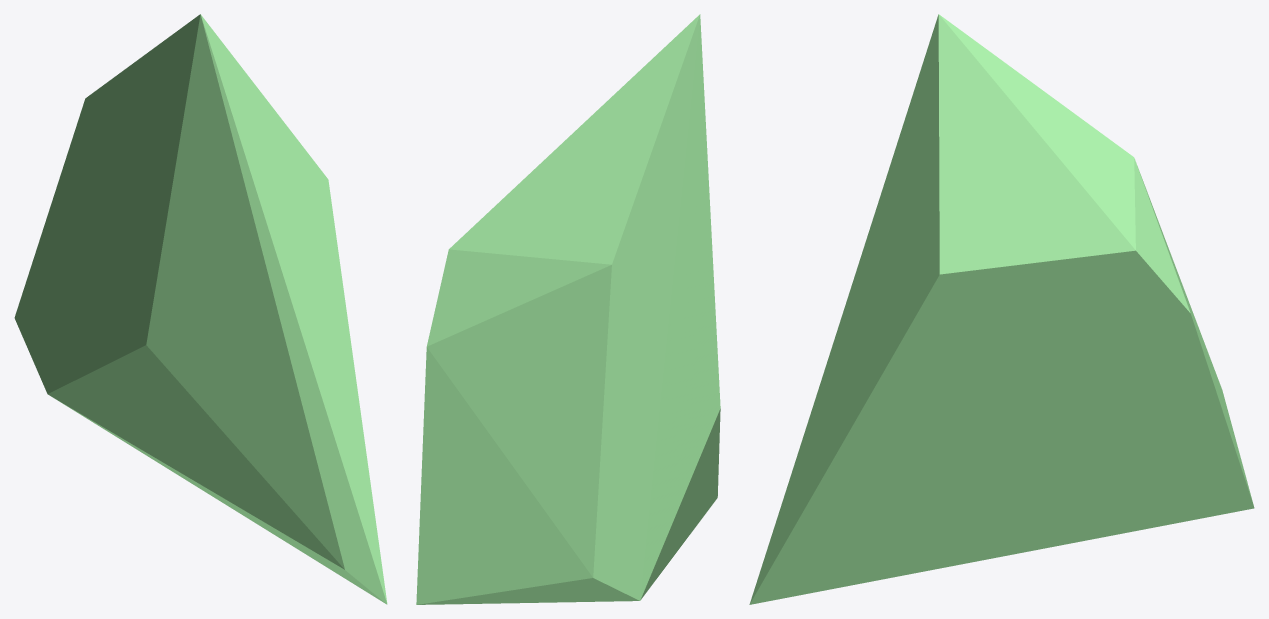
File: UMIRobot_UMIRobot_link_5_convex_coll_56.dae
The picture shows the model from 3 angles, left to right: view 1: azimuth 30°, elevation 25°; view 2: azimuth 150°, elevation 25°; view 3: azimuth 270°, elevation 25°; orthographic projection. The views are drawn at different scales.
Visible parts, largest first — view 1: node; view 2: node; view 3: node.
Boxes of the visible parts, x1=… form: node: x1=14, y1=14, x2=387, y2=604; node: x1=416, y1=14, x2=720, y2=604; node: x1=749, y1=14, x2=1254, y2=604.
Size of the model in its own units: 0.00228 by 0.00665 by 0.00558.
